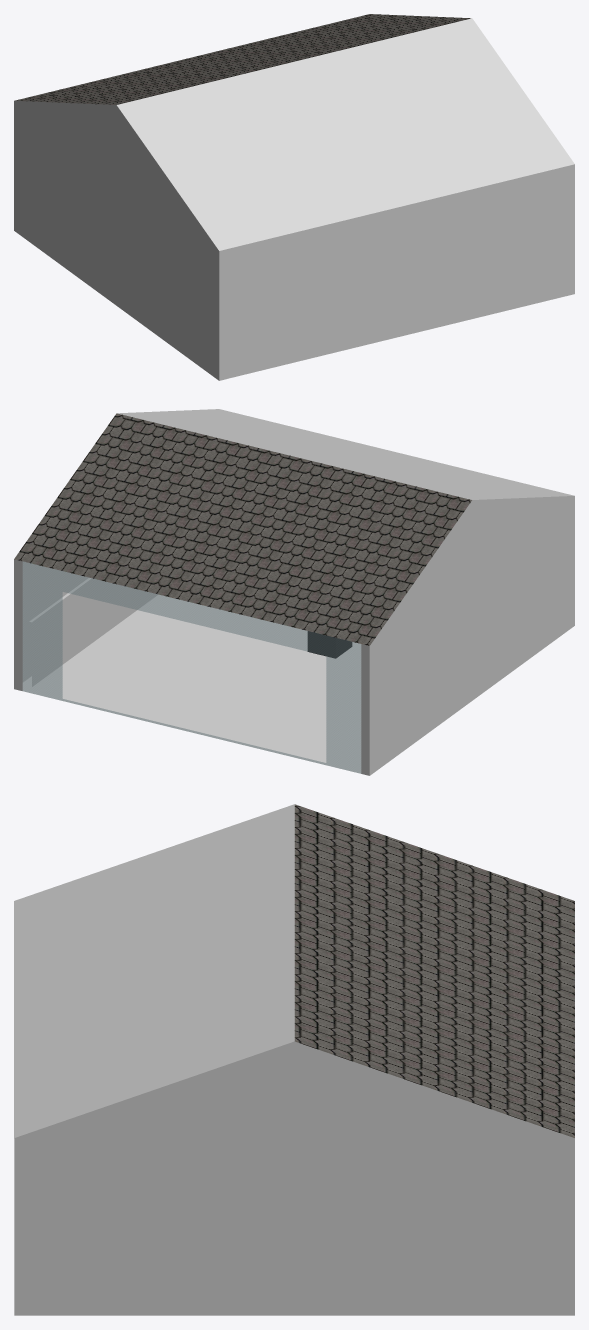
The model's file is loja.obj.
3 renders of one model, top to bottom at view 1: azimuth 30°, elevation 25°; view 2: azimuth 150°, elevation 25°; view 3: azimuth 270°, elevation 25°, orthographic. The views are drawn at different scales.
Parts seen in each view (by area): view 1: Mesh1 Model; view 2: Mesh1 Model; view 3: Mesh1 Model.
Part boxes in pixels (x1=…): Mesh1 Model: x1=14, y1=14, x2=574, y2=380; Mesh1 Model: x1=14, y1=409, x2=574, y2=775; Mesh1 Model: x1=14, y1=804, x2=574, y2=1315.
Bounding box in the file's own units: 6.3 × 3.4 × 6.3.
Materials: 5 (3 with a texture image).
